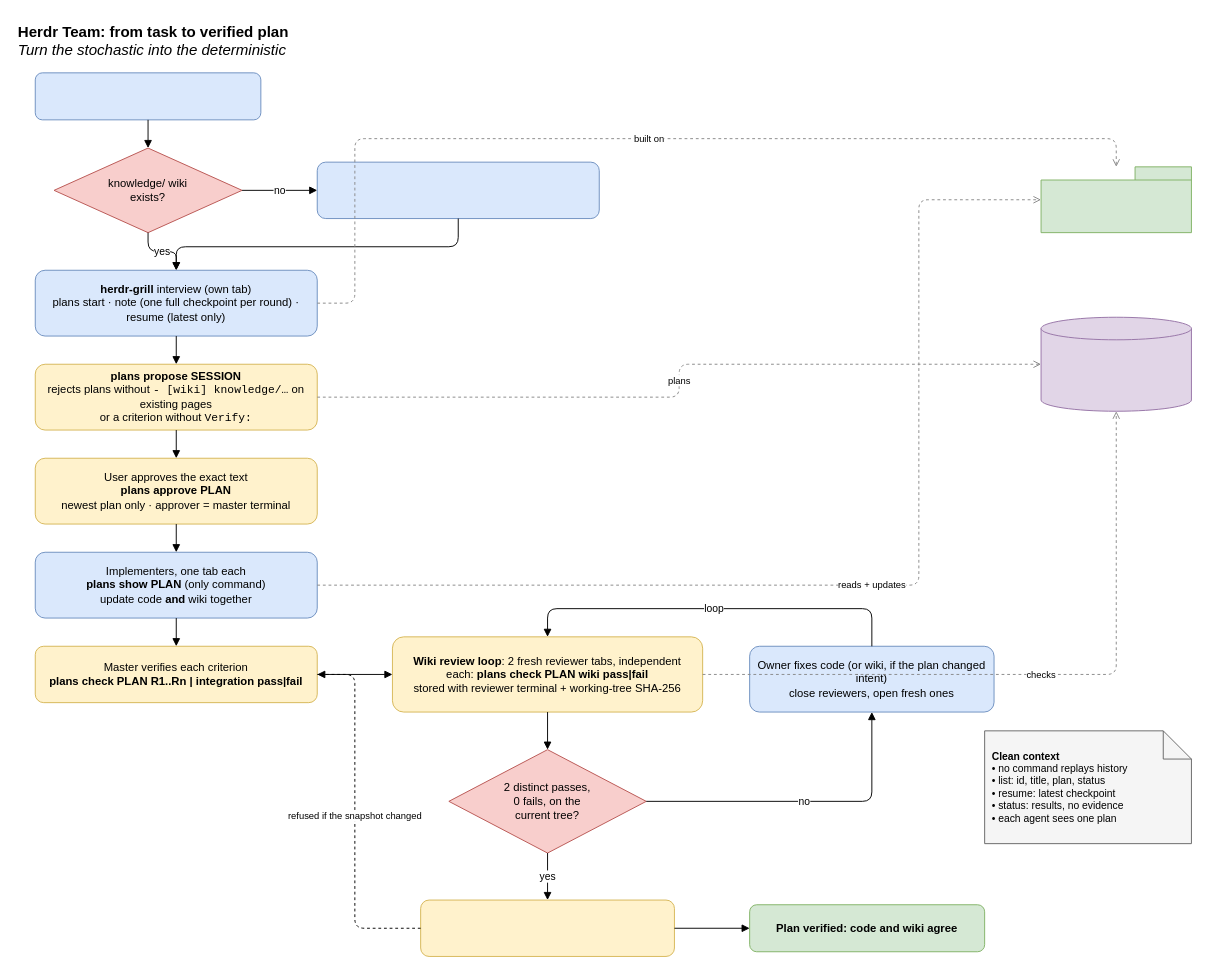
Some shapes in this 1208 by 973 pixel diagram are drawn without their labels. Here are the shapes that lost their labels. From the top down, the centre of each, then its label:
pixel 147 96: User gives a task to the master
pixel 457 190: Create OKF 0.2 wiki knowledge/{AGENTS.md, index.md, log.md, raw/, wiki/}
pixel 1115 199: knowledge/ source of truth
pixel 1115 363: herdr.sqlite3 one per repo outside checkout
pixel 547 927: plans finish PLAN re-hashes the tree · all criteria latest = pass
